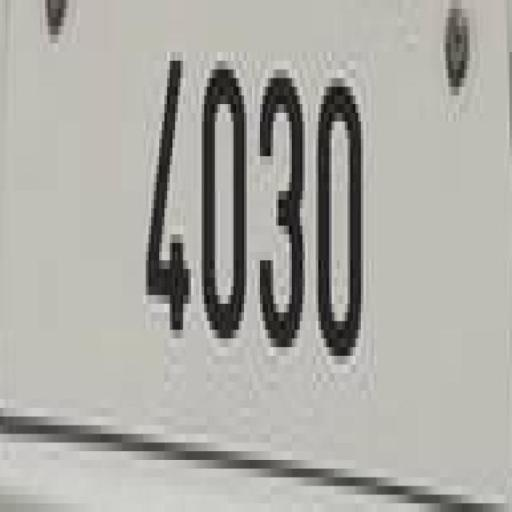number plate: (2, 0, 476, 494)
